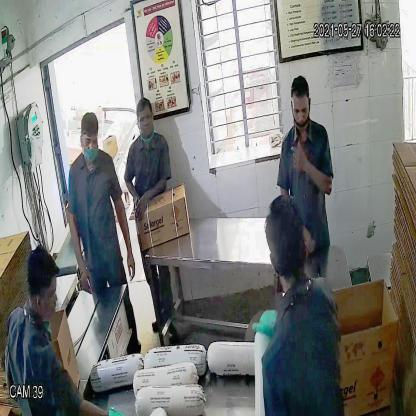no_goggles: (288, 100, 315, 121), (78, 130, 102, 153)
